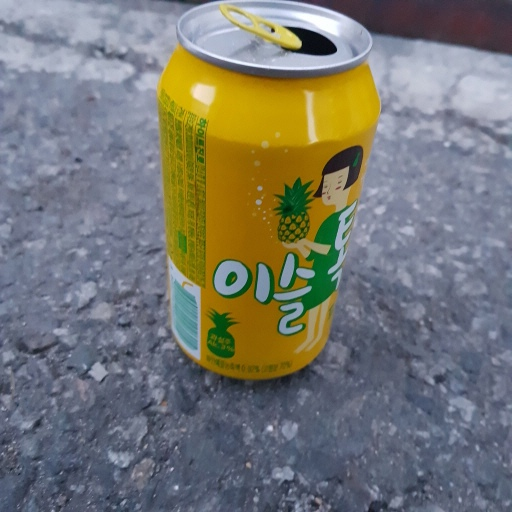Metal_0: (156, 1, 385, 386)
